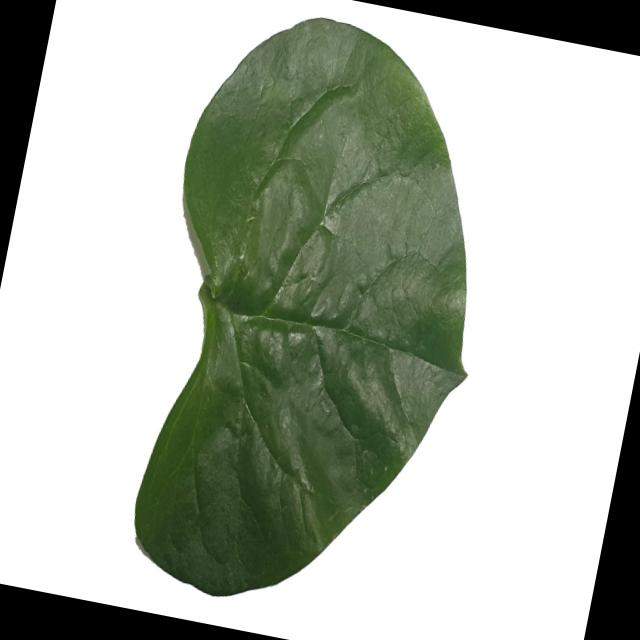Medicinal-Basale: (105, 0, 531, 637)
